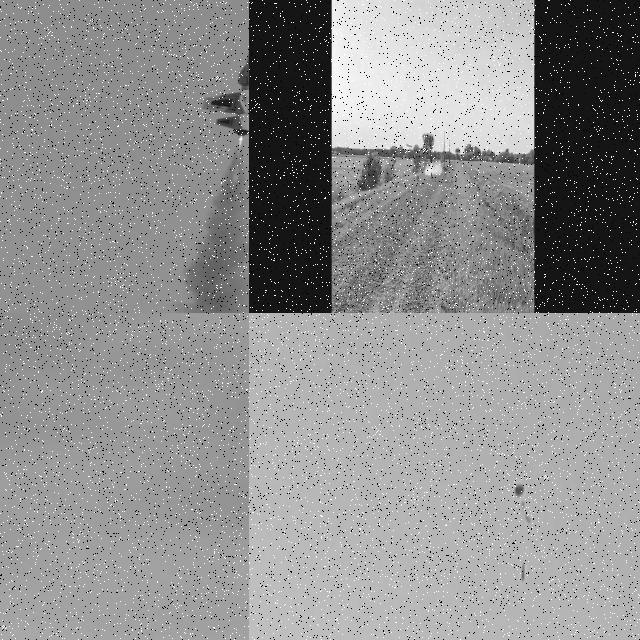Rocket: (201, 0, 249, 137), (429, 140, 433, 163), (521, 562, 525, 582)
